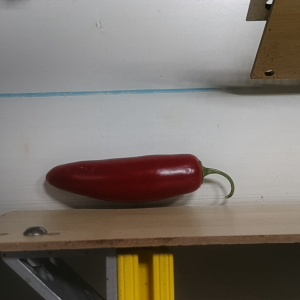Cut Point: (183, 152, 215, 193)
